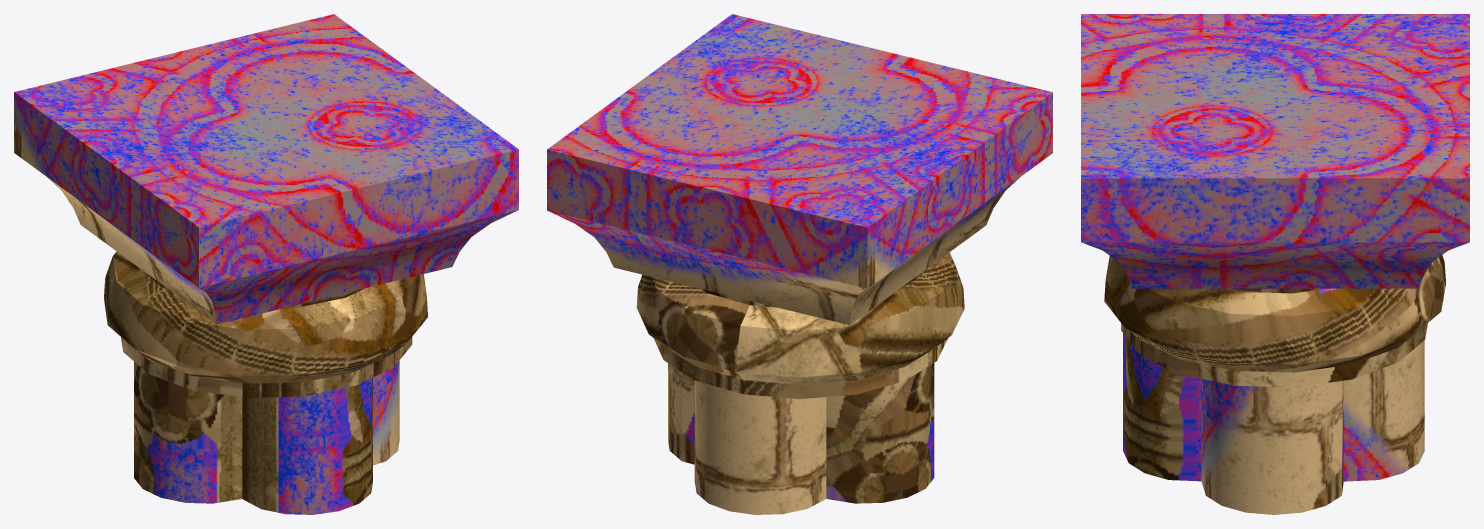
The model's file is SM_Columna1Top.fbx.
The picture shows the model from 3 angles, left to right: view 1: azimuth 30°, elevation 25°; view 2: azimuth 150°, elevation 25°; view 3: azimuth 270°, elevation 25°; orthographic projection. The views are drawn at different scales.
Parts seen in each view (by area): view 1: SM_Columna1Top; view 2: SM_Columna1Top; view 3: SM_Columna1Top.
Part boxes in pixels (box(x1,y1,x2,y2)): SM_Columna1Top: box(14, 14, 518, 514); SM_Columna1Top: box(547, 14, 1052, 514); SM_Columna1Top: box(1081, 14, 1469, 514).
Size of the model in its own units: 99.21 by 100 by 99.21.
